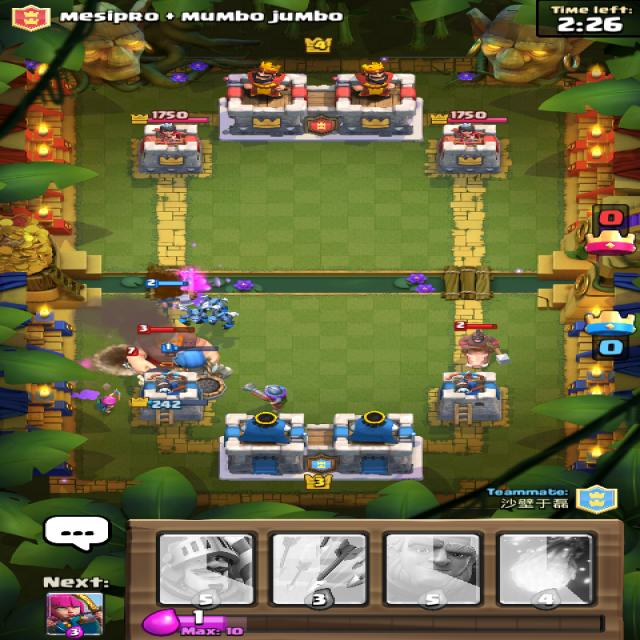Enemy-Giant: (124, 324, 219, 374)
Enemy-HogRider: (450, 319, 510, 369)
Player-Archer: (94, 387, 122, 414)
Player-GiantSkeleton: (159, 342, 233, 399)
Player-Minion: (176, 304, 207, 326), (205, 310, 239, 330), (197, 294, 228, 310)
Player-Musketeer: (240, 382, 288, 412)
Player-Valkyrie: (143, 278, 193, 316)
